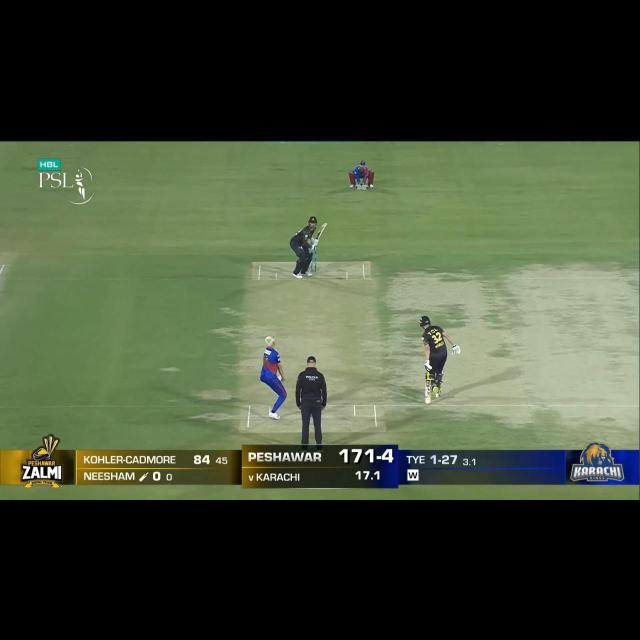bat: (425, 377, 432, 407), (316, 223, 326, 240)
toe: (425, 400, 431, 407), (321, 223, 327, 229)
